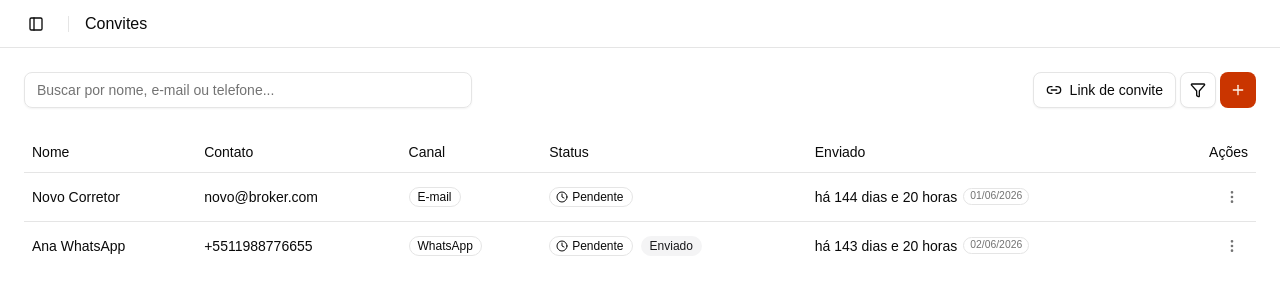
Test: InvitesPage › filters invites by name, email or phone
Expected: the text "Novo Corretor" is shown, [24, 172, 196, 221]
Expected: the text "Ana WhatsApp" is shown, [24, 221, 196, 270]
Type "ana" into the field named "Buscar convites" at (248, 90), box [24, 72, 472, 108]
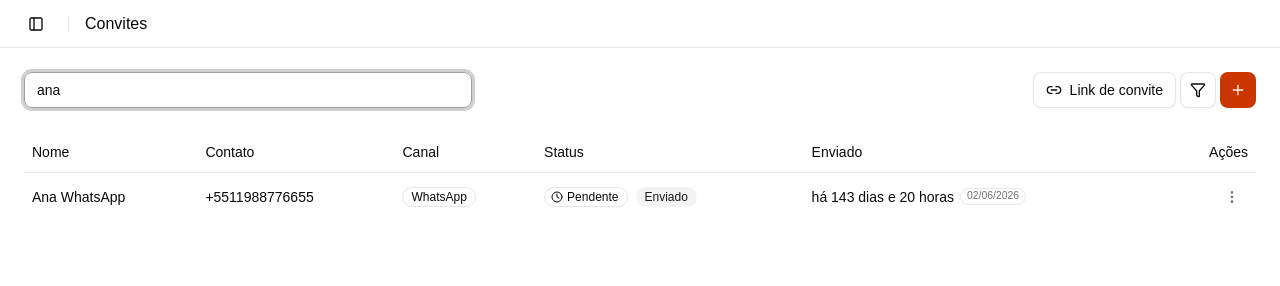
Expected: the text "Ana WhatsApp" is shown, [24, 172, 197, 220]
Now the text "Novo Corretor" is gone
Replace the text in the field named "Buscar convites" with "novo@broker.com" at (248, 90), box [24, 72, 472, 108]
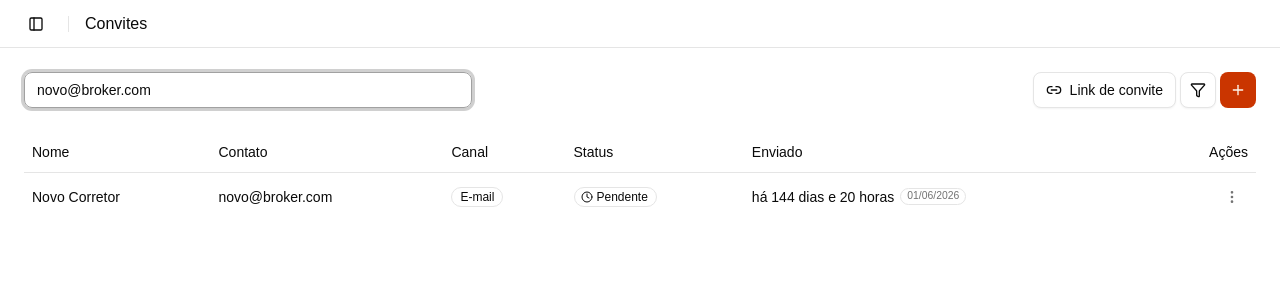
Expected: the text "Ana WhatsApp" is not shown
Now the text "Novo Corretor" is shown, box [24, 172, 210, 220]
Replace the text in the field named "Buscar convites" with "88776655" at (248, 90), box [24, 72, 472, 108]
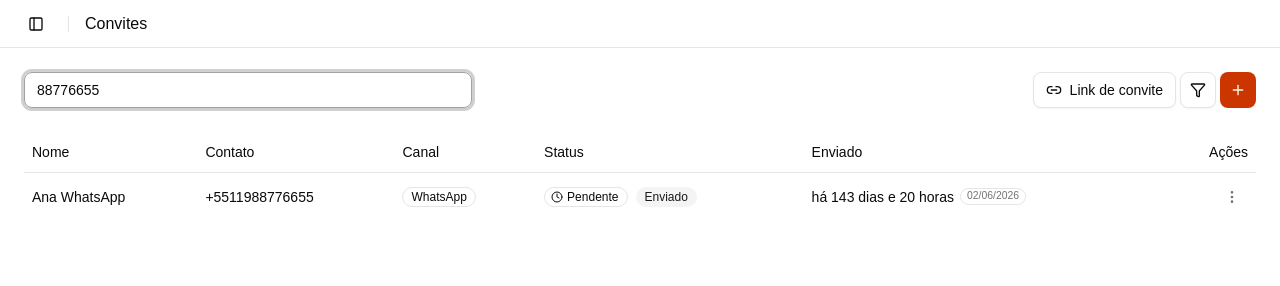
Now the text "Ana WhatsApp" is shown, box [24, 172, 197, 220]
Now the text "Novo Corretor" is gone
